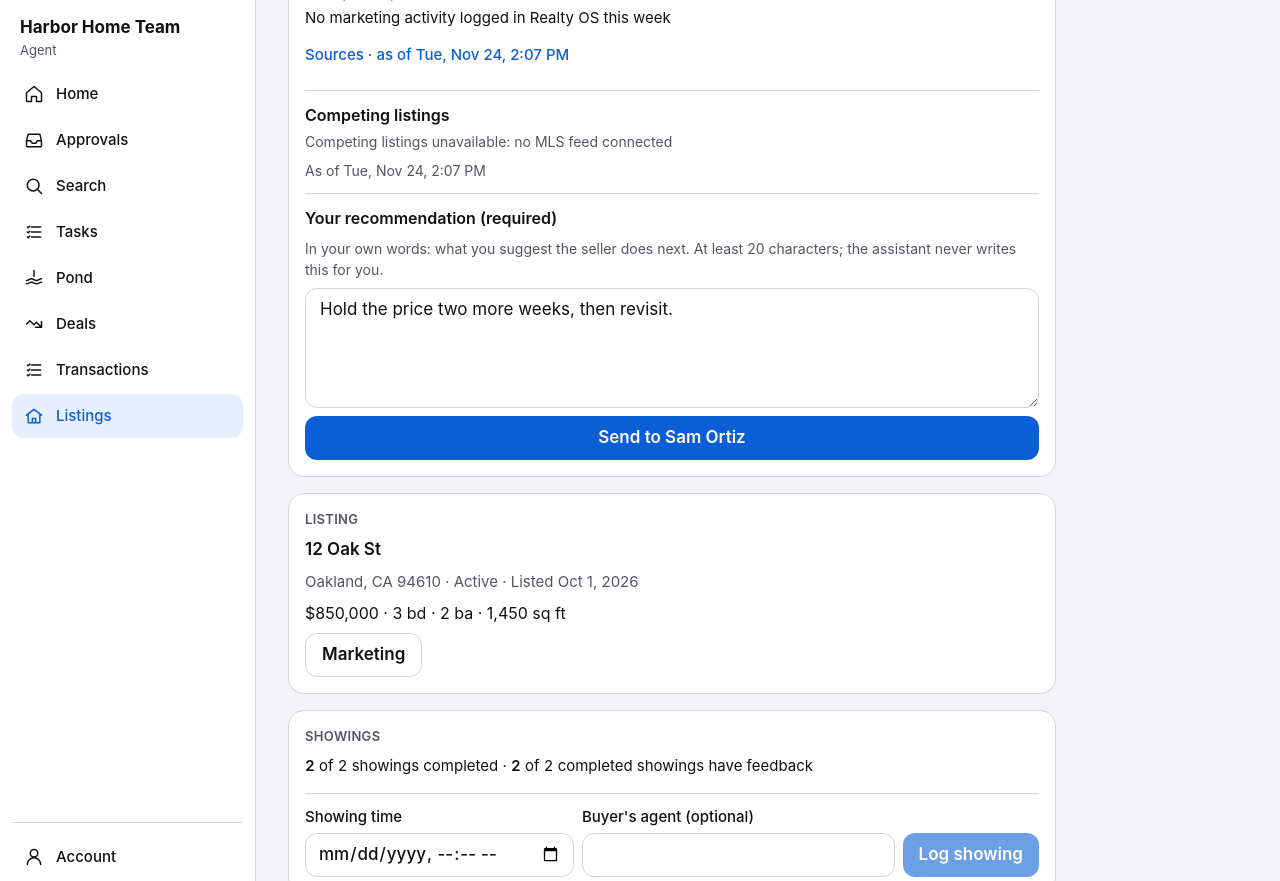
Test case: Seller update card (module 38) › a send refused because the data moved or the recipients changed says so in words (nothing was sent)
(page scrolled)
Click the button "Send to Sam Ortiz". click: (672, 438)
box: [305,416,1039,460]
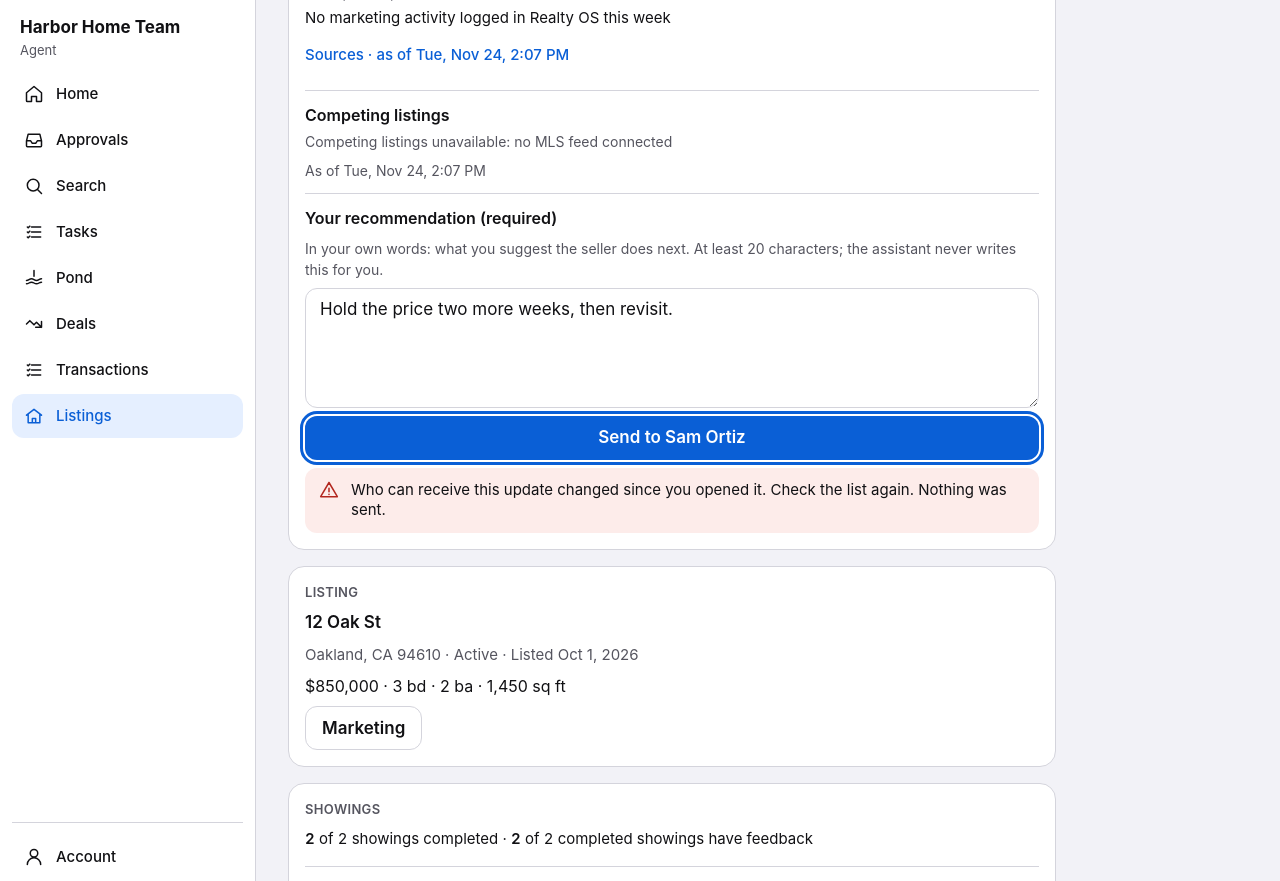
Expected: the text "Who can receive this update changed since you opened it. Check the list again. Nothing was sent." is shown, [351,480,1007,519]
